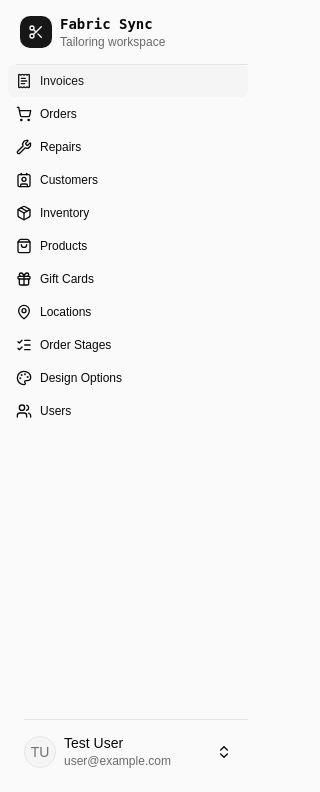
it: sidebar account settings › hides account settings for an unsupported issuer without an override
Click the button "TU Test User user@example.com" at (128, 752), box [16,728,240,776]
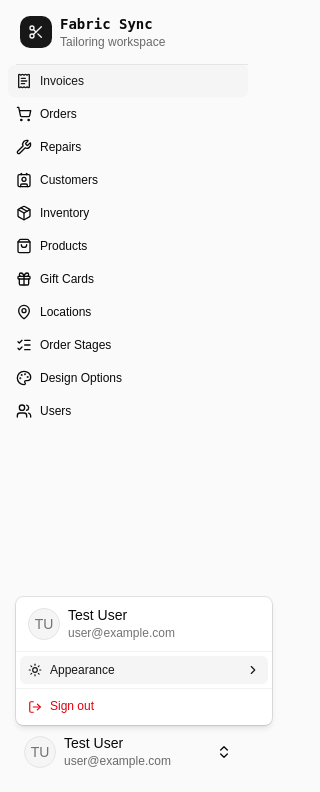
Expected: the menu item "Sign out" is shown, [28,699,94,714]
